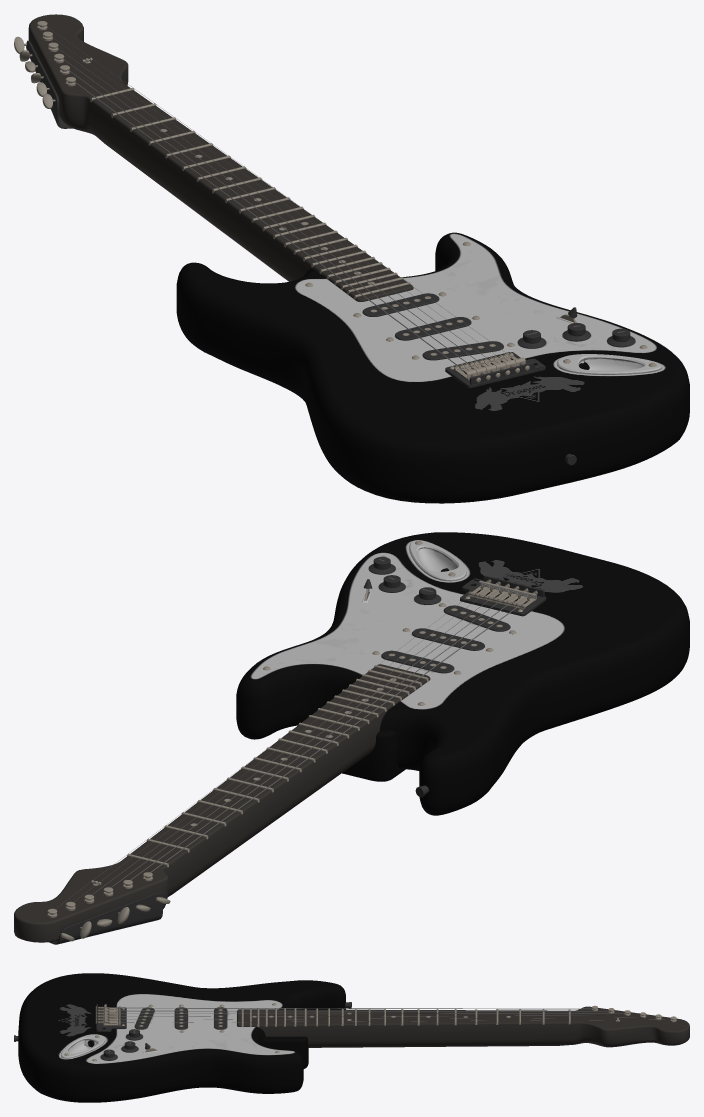
3 views of the same model, one above another, from view 1: azimuth 30°, elevation 25°; view 2: azimuth 150°, elevation 25°; view 3: azimuth 270°, elevation 25° (orthographic). The views are drawn at different scales.
Parts seen in each view (by area): view 1: deck, grif, UV01, big_3in1_uv, strums_metal01, jack, strums_metal02, UV02, tuner_metal; view 2: deck, grif, UV01, big_3in1_uv, strums_metal01, backTuner, connector2, jack, strums_metal02, UV02, strum_hold01, tuner_metal; view 3: deck, grif, strums_metal01, big_3in1_uv, UV01, strums_metal02, connector2, jack, strum_hold01, UV02, volume, big2_6in1_uv.
Part boxes in pixels (x1,y1,x2,y2): deck: [176, 232, 689, 503]; grif: [28, 14, 413, 301]; UV01: [90, 88, 410, 299]; big_3in1_uv: [362, 293, 635, 360]; strums_metal01: [62, 58, 483, 372]; jack: [557, 354, 661, 374]; strums_metal02: [46, 26, 512, 364]; UV02: [454, 353, 525, 380]; tuner_metal: [14, 36, 52, 108]; deck: [236, 532, 689, 815]; grif: [14, 664, 430, 942]; UV01: [127, 665, 428, 867]; big_3in1_uv: [368, 564, 510, 673]; strums_metal01: [111, 599, 524, 887]; backTuner: [49, 892, 163, 944]; connector2: [342, 730, 405, 781]; jack: [409, 540, 466, 581]; strums_metal02: [55, 592, 496, 908]; UV02: [468, 580, 536, 609]; strum_hold01: [460, 579, 546, 616]; tuner_metal: [60, 897, 170, 941]; deck: [18, 973, 345, 1102]; grif: [237, 1006, 689, 1047]; strums_metal01: [114, 1007, 625, 1015]; big_3in1_uv: [100, 1007, 227, 1060]; UV01: [241, 1008, 570, 1026]; strums_metal02: [114, 1015, 669, 1023]; connector2: [262, 1036, 308, 1068]; jack: [61, 1034, 105, 1058]; strum_hold01: [96, 1007, 126, 1031]; UV02: [103, 1004, 120, 1025]; volume: [103, 1029, 139, 1057]; big2_6in1_uv: [591, 1005, 676, 1022].
Size of the model in its own units: 3.66 by 0.9036 by 10.67.
2 materials, 2 textured.
